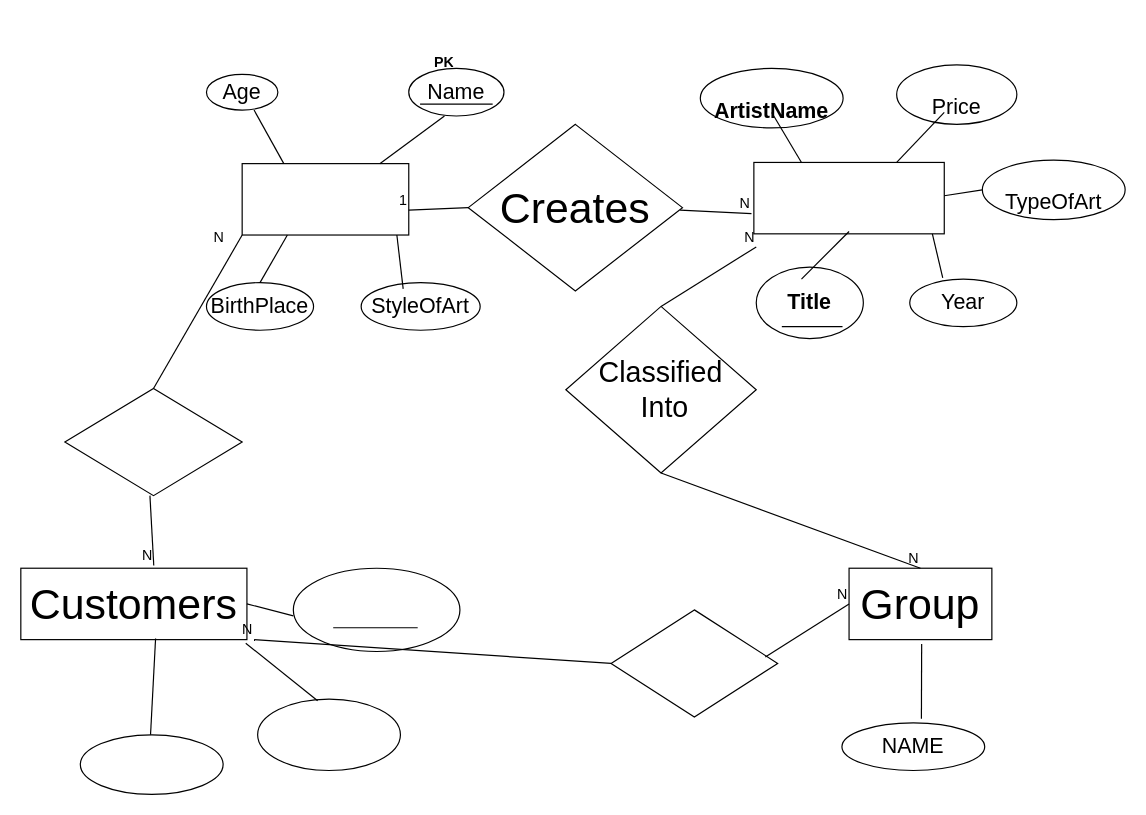
This 1146x815 diagram has some shape labels left out. The shapes that lost their labels are listed below. From the top down, each one's box as (x1, y1, x2, y2) in pixels, then its label:
(241, 162, 409, 235): Artist
(753, 161, 944, 234): ArtWork
(64, 387, 242, 496): Links Artist
(292, 567, 460, 652): CustomerName
(610, 609, 778, 717): Links Group
(256, 698, 400, 771): Address
(79, 734, 223, 794): TotalSpent
